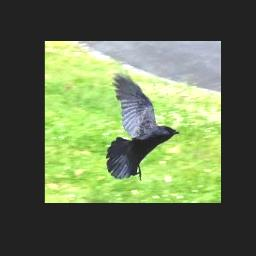Crow: (104, 71, 180, 180)
